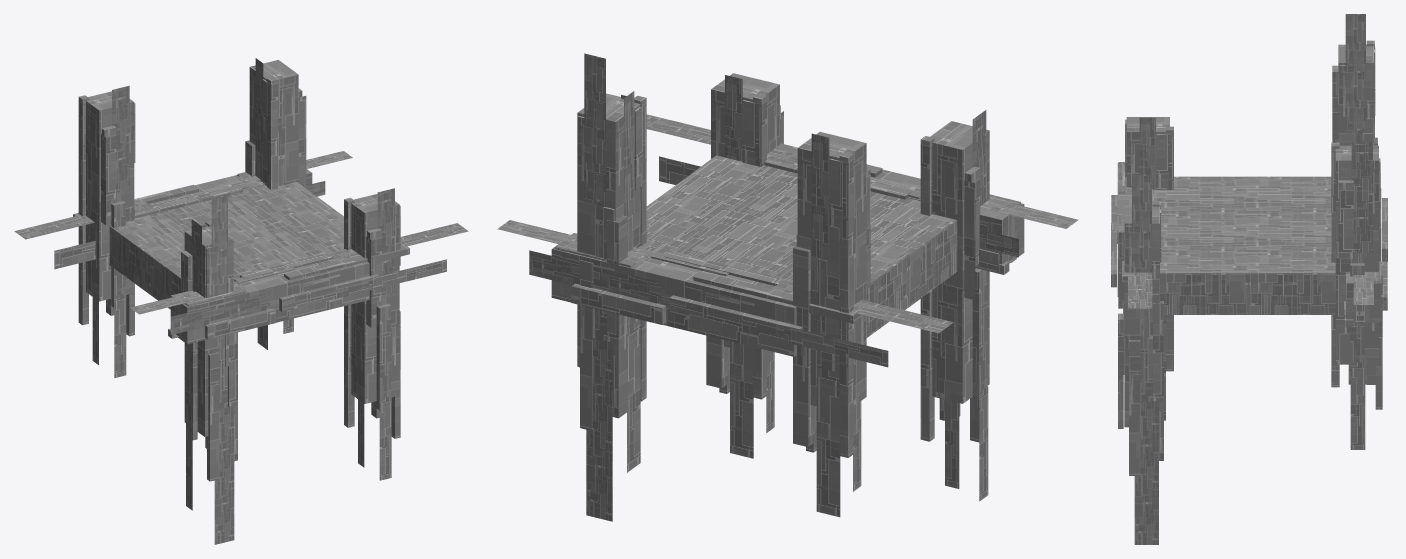
The model's file is SM_architecture_module_10.glb.
The picture shows the model from 3 angles, left to right: view 1: azimuth 30°, elevation 25°; view 2: azimuth 150°, elevation 25°; view 3: azimuth 270°, elevation 25°; orthographic projection. The views are drawn at different scales.
Visible parts, largest first — view 1: SM_architecture_module_10; view 2: SM_architecture_module_10; view 3: SM_architecture_module_10.
Part boxes in pixels (x1,y1,x2,y2): SM_architecture_module_10: [14, 58, 468, 544]; SM_architecture_module_10: [497, 53, 1078, 521]; SM_architecture_module_10: [1111, 14, 1387, 544].
Size of the model in its own units: 18.34 by 21.38 by 12.42.
2 materials, 2 textured.
